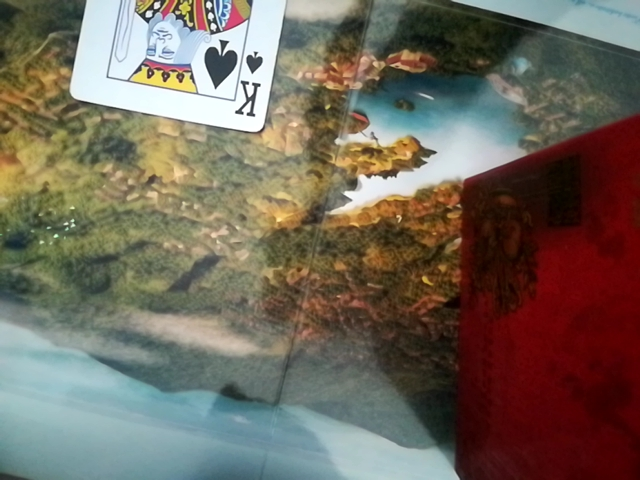ht k: (58, 0, 288, 141)
